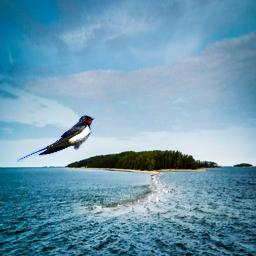Swallow: (16, 115, 95, 162)
